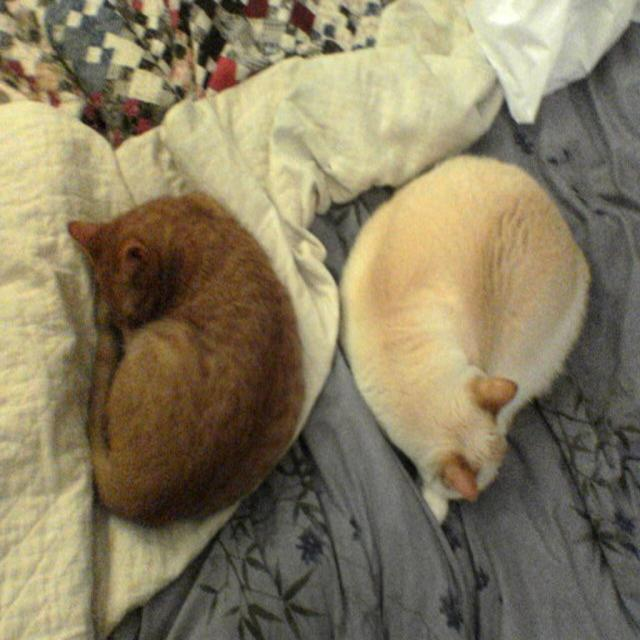Cat: (338, 150, 596, 526), (68, 196, 302, 522)
